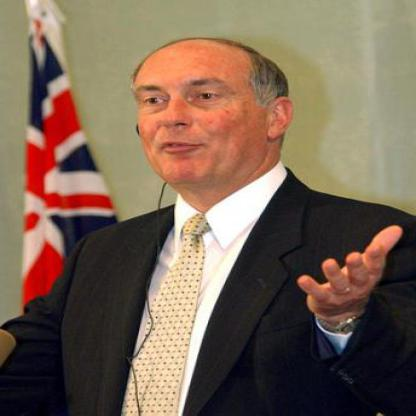face: (128, 39, 272, 190)
